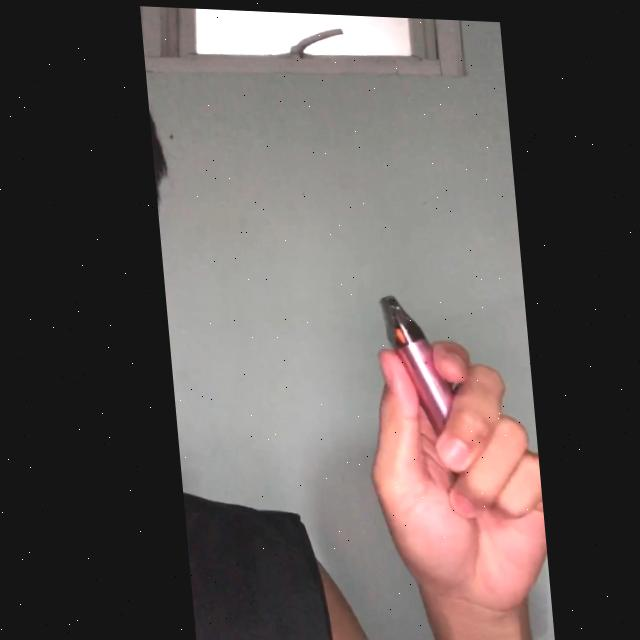vape: (377, 293, 445, 428)
